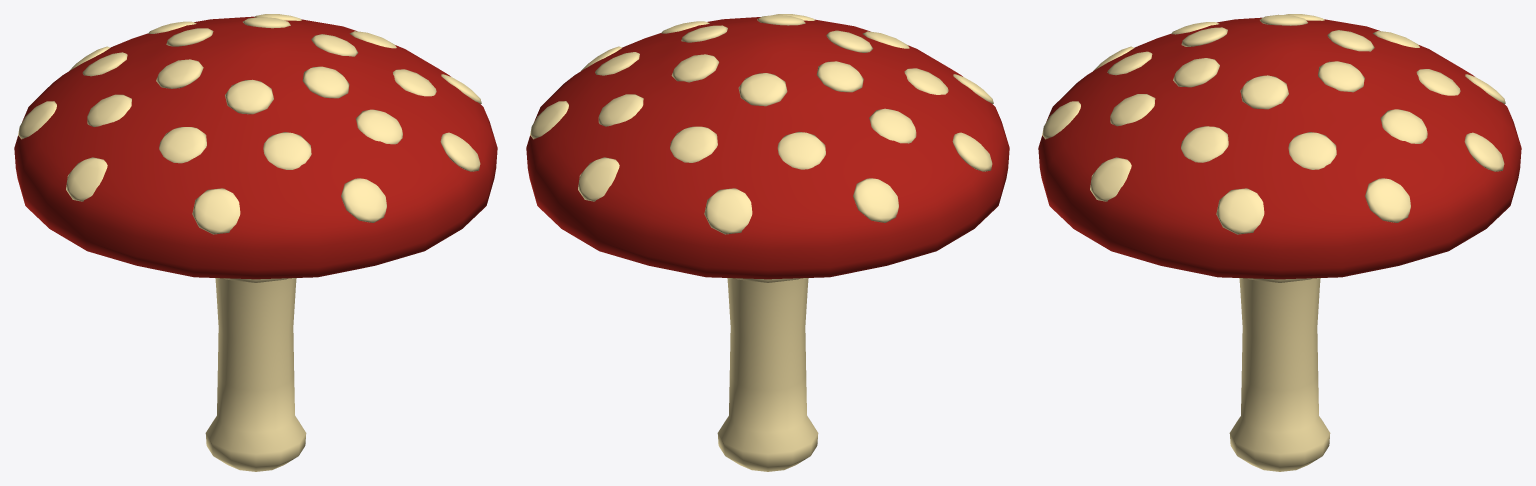
File: muhara.fbx
3 renders of one model, left to right at view 1: azimuth 30°, elevation 25°; view 2: azimuth 150°, elevation 25°; view 3: azimuth 270°, elevation 25°, orthographic.
Parts seen in each view (by area): view 1: Muhara; view 2: Muhara; view 3: Muhara.
Part boxes in pixels (x1,y1,x2,y2): Muhara: (14,14,497,471); Muhara: (526,14,1009,471); Muhara: (1038,14,1521,471).
Size of the model in its own units: 277 by 267 by 277.
